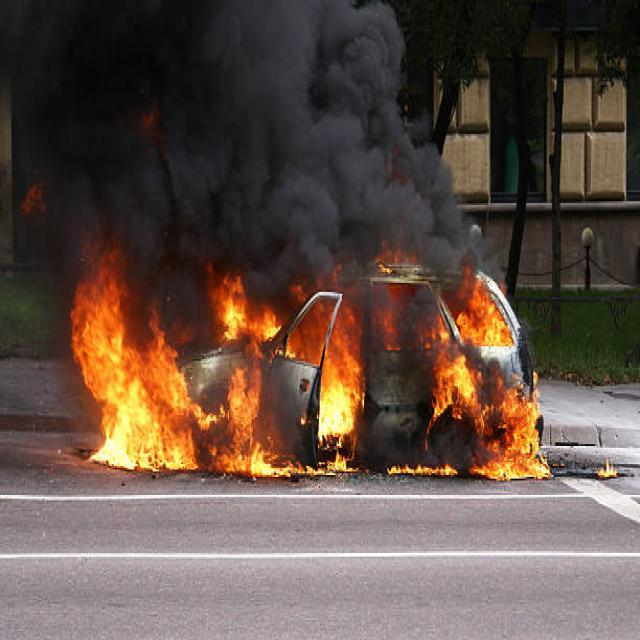Fire: (85, 334, 199, 470), (217, 378, 276, 478), (488, 392, 548, 484), (320, 334, 360, 430), (461, 281, 507, 344)
